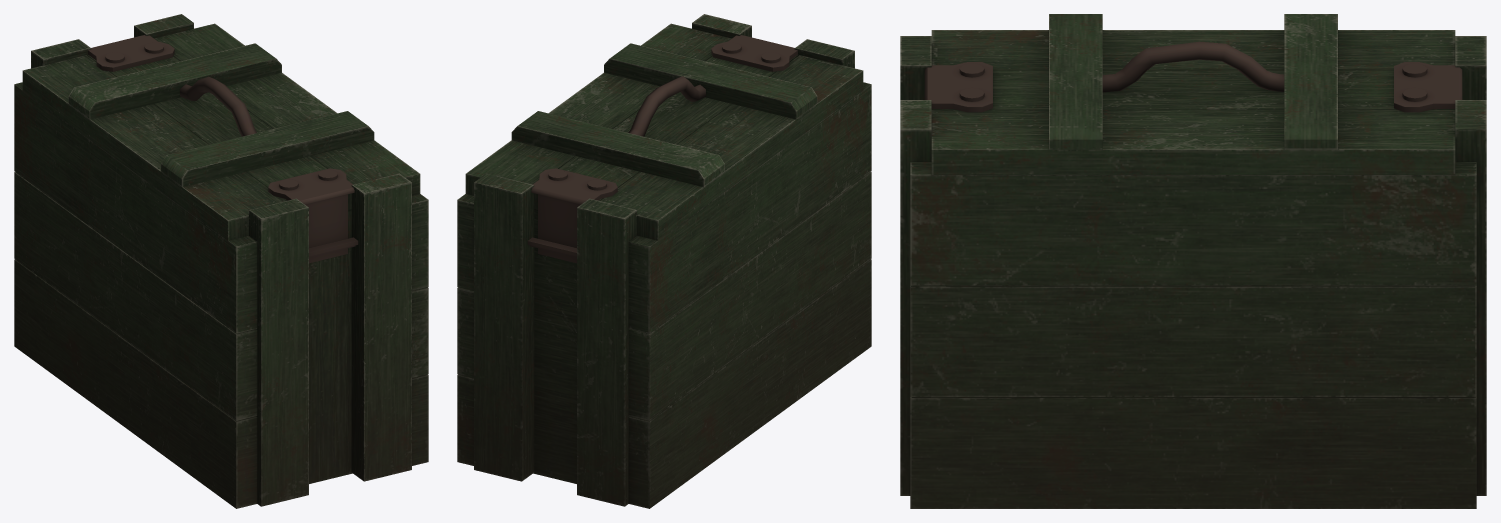
File: Bg_WeaponBox_03.fbx
3 renders of one model, left to right at view 1: azimuth 30°, elevation 25°; view 2: azimuth 150°, elevation 25°; view 3: azimuth 270°, elevation 25°, orthographic. The views are drawn at different scales.
Parts seen in each view (by area): view 1: Bg_WeaponBox_03; view 2: Bg_WeaponBox_03; view 3: Bg_WeaponBox_03.
Part boxes in pixels (<box>): Bg_WeaponBox_03: <box>14,14,428,508</box>; Bg_WeaponBox_03: <box>457,14,871,508</box>; Bg_WeaponBox_03: <box>900,14,1486,508</box>.
Bounding box in the file's own units: 25.47 × 40.58 × 52.73.
